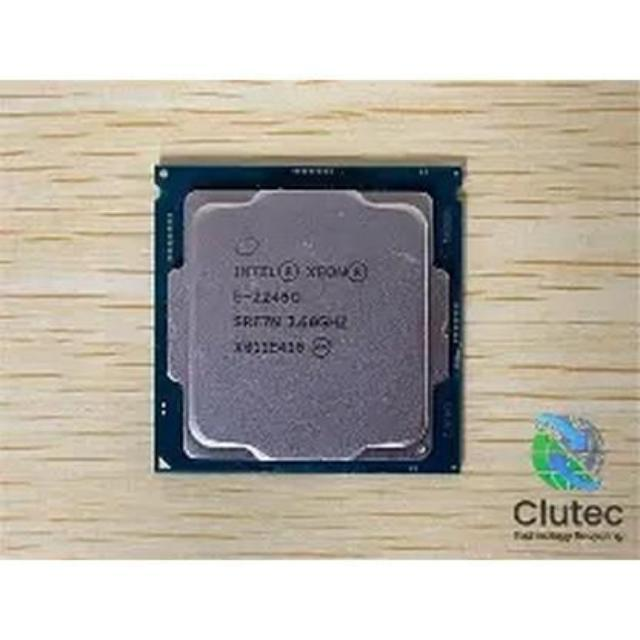CPU: (152, 166, 462, 474)
